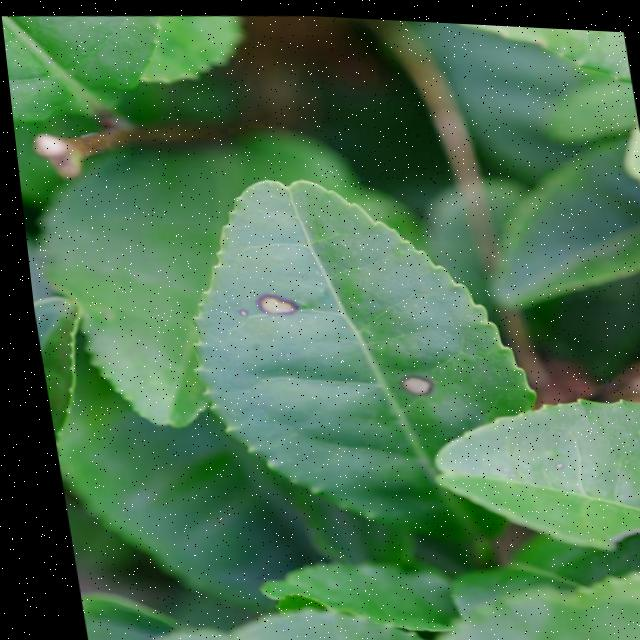Tea red scab: (364, 345, 451, 399), (223, 280, 312, 327)
